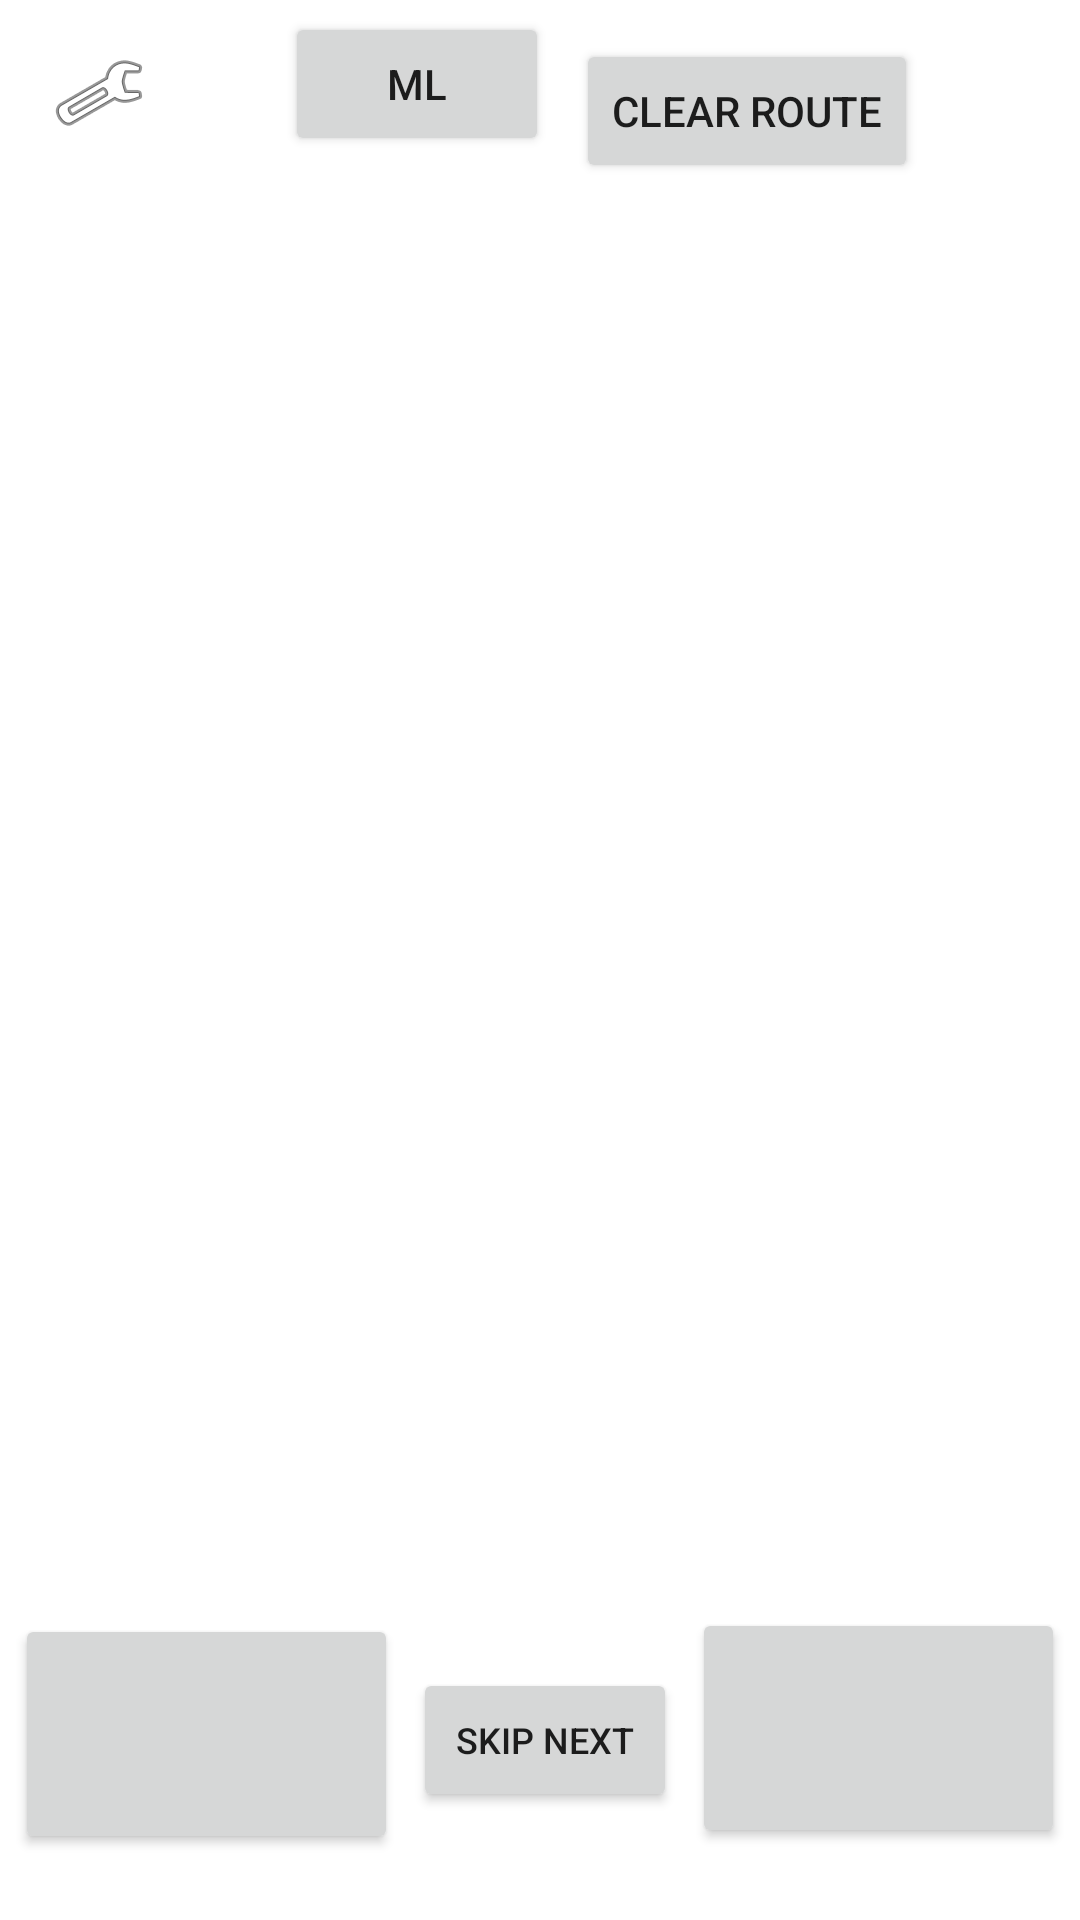

Locate icon controls on the screen. Image size 1080 x 1920, boxes as (x1, y1, x2, y2).
preferences: (56, 60, 142, 126)
